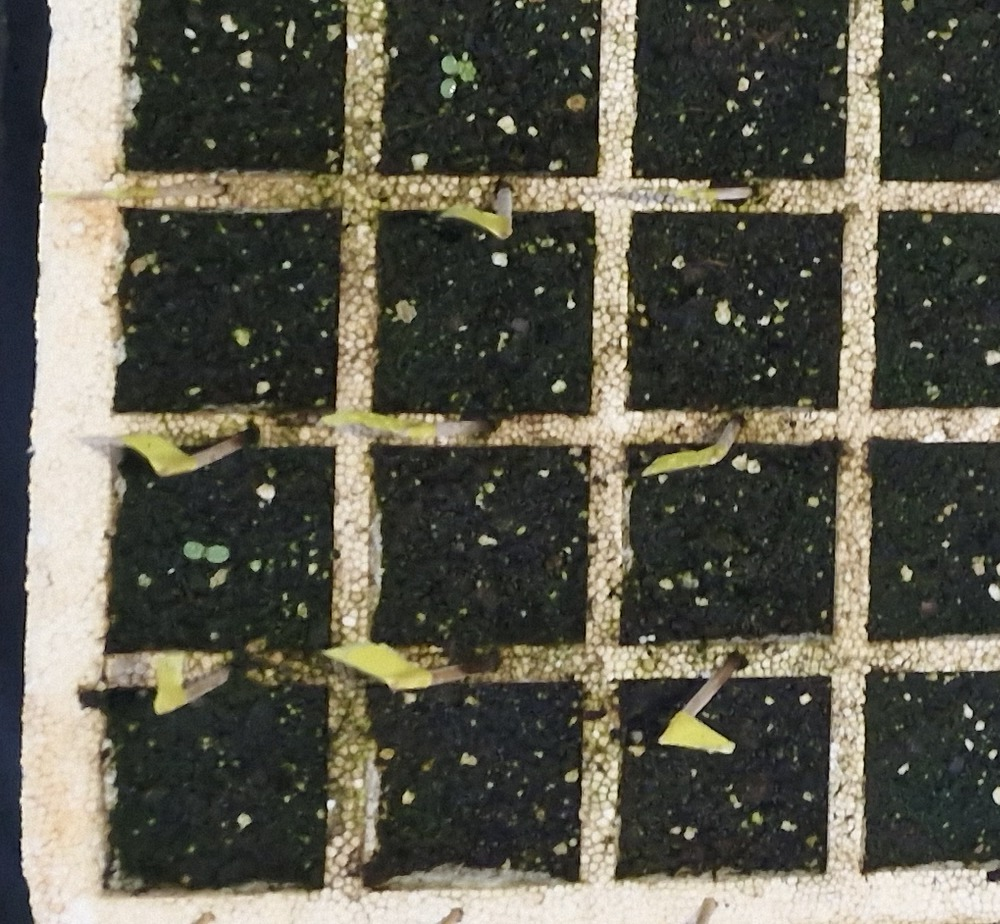Folha: (458, 61, 477, 82), (206, 546, 229, 563), (440, 79, 457, 99), (184, 542, 204, 559), (441, 55, 458, 74)
Germinacao: (441, 57, 477, 98), (182, 542, 230, 563)
